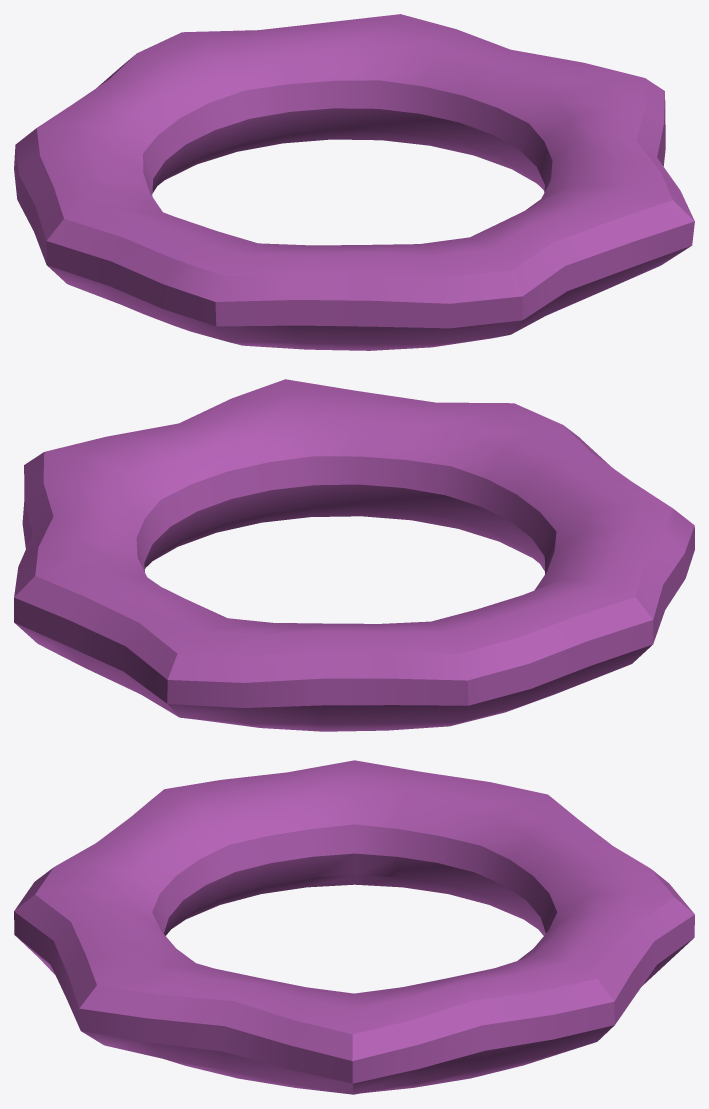
Rendered from portal_ring.fbx.
3 views of the same model, one above another, from view 1: azimuth 30°, elevation 25°; view 2: azimuth 150°, elevation 25°; view 3: azimuth 270°, elevation 25° (orthographic). The views are drawn at different scales.
Parts seen in each view (by area): view 1: PortalRing; view 2: PortalRing; view 3: PortalRing.
Boxes of the visible parts, x1=… form: PortalRing: x1=14, y1=14, x2=694, y2=350; PortalRing: x1=14, y1=379, x2=694, y2=731; PortalRing: x1=14, y1=760, x2=694, y2=1094.
Size of the model in its own units: 277 by 41.5 by 273.
